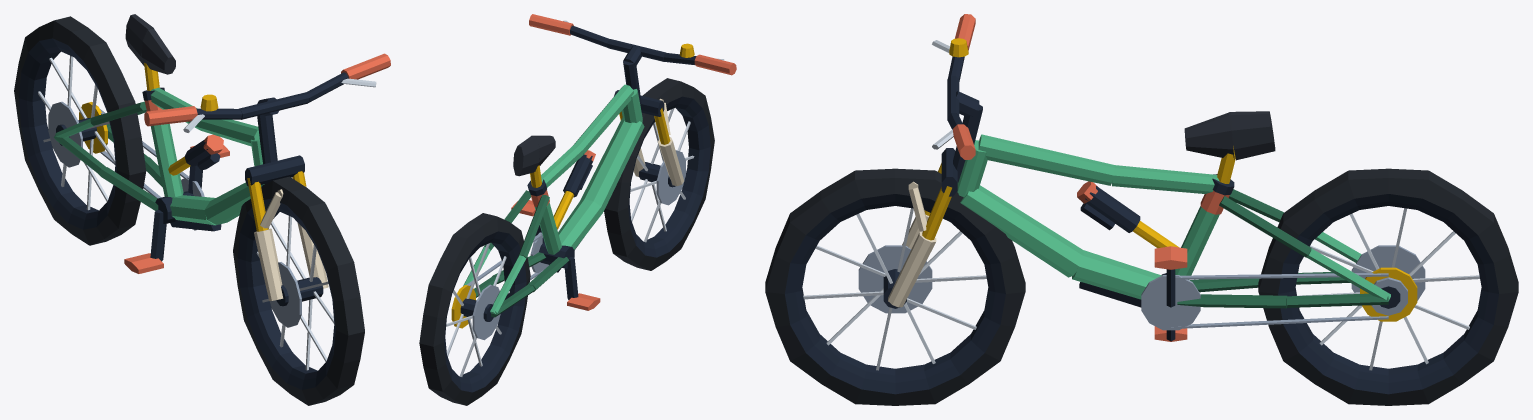
Rendered from mountain_bike.glb.
3 renders of one model, left to right at view 1: azimuth 30°, elevation 25°; view 2: azimuth 150°, elevation 25°; view 3: azimuth 270°, elevation 25°, orthographic. The views are drawn at different scales.
Visible parts, largest first — view 1: RearWheel, FrontWheel, Frame, SteerGroup, Crankset; view 2: Frame, RearWheel, FrontWheel, SteerGroup, Crankset; view 3: Frame, RearWheel, FrontWheel, SteerGroup, Crankset.
Part boxes in pixels (box(x1,y1,x2,y2)): RearWheel: box(14, 16, 146, 245); FrontWheel: box(233, 176, 364, 405); Frame: box(54, 14, 264, 231); SteerGroup: box(144, 53, 390, 301); Crankset: box(124, 145, 229, 273); Frame: box(463, 84, 644, 317); RearWheel: box(419, 213, 530, 405); FrontWheel: box(604, 78, 714, 270); SteerGroup: box(529, 14, 736, 186); Crankset: box(511, 200, 600, 310); Frame: box(957, 111, 1390, 330); RearWheel: box(1258, 168, 1518, 405); FrontWheel: box(765, 168, 1025, 405); SteerGroup: box(888, 14, 982, 307); Crankset: box(1154, 246, 1187, 341).
Bounding box in the file's own units: 0.8664 × 0.992 × 2.08.
